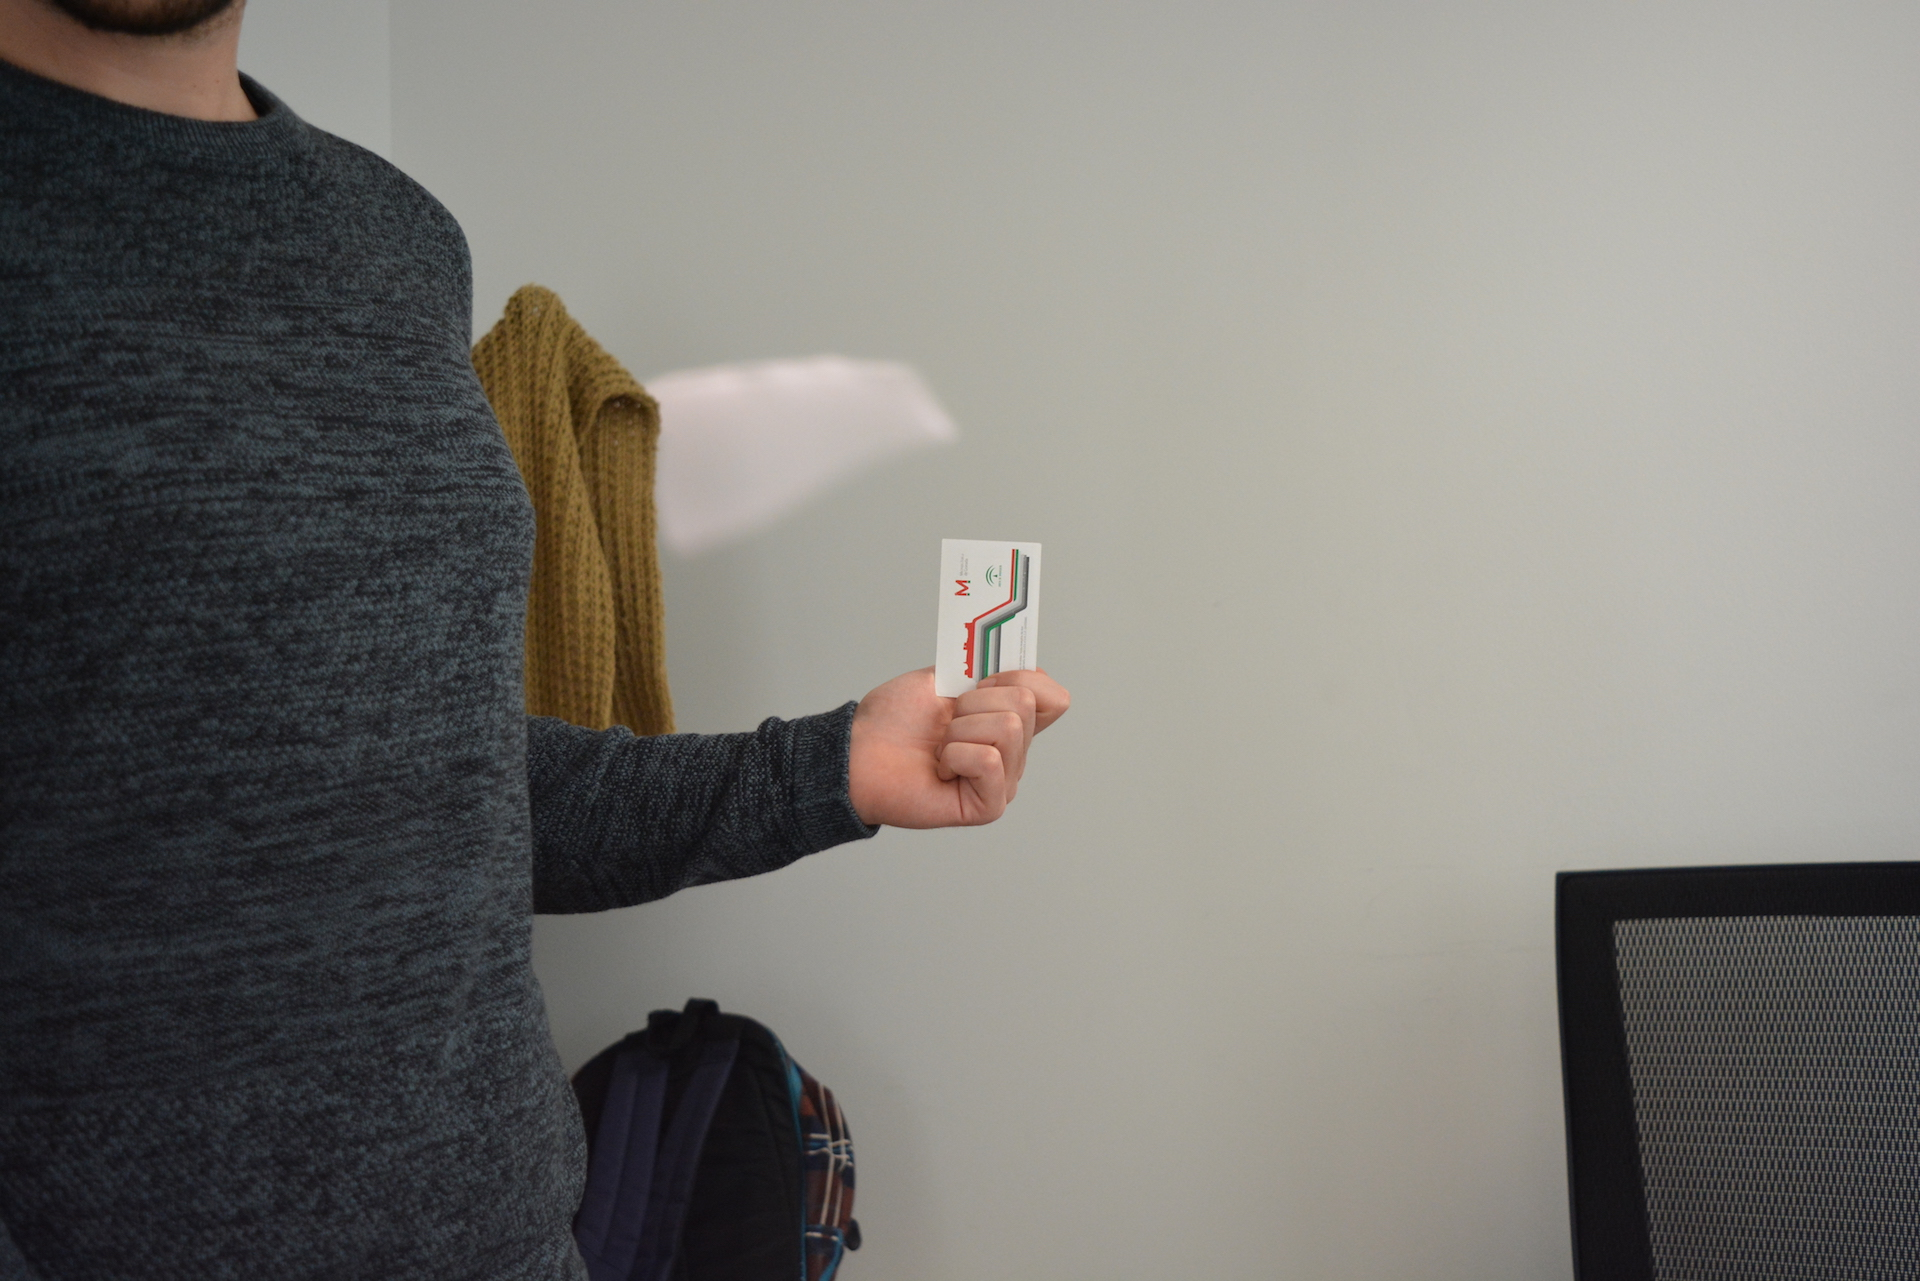tarjeta: (934, 538, 1044, 699)
